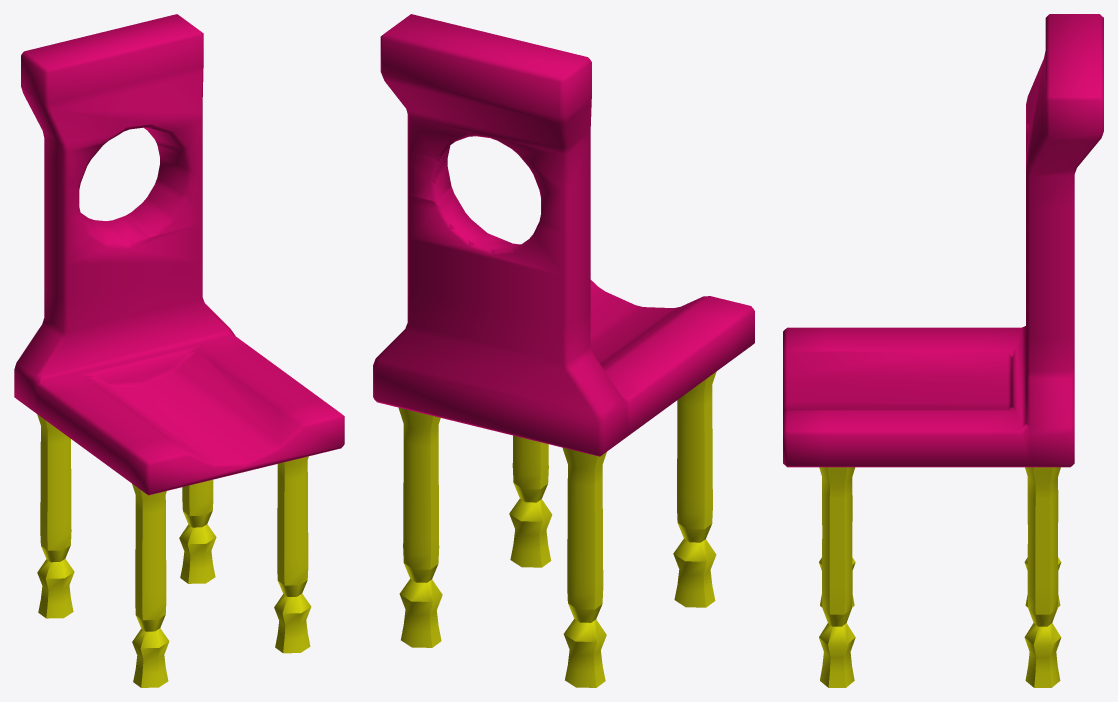
File: chairA.fbx
3 views of the same model, side by side, from view 1: azimuth 30°, elevation 25°; view 2: azimuth 150°, elevation 25°; view 3: azimuth 270°, elevation 25° (orthographic). The views are drawn at different scales.
Visible parts, largest first — view 1: autouv1; view 2: autouv1; view 3: autouv1.
Part boxes in pixels (box(x1,y1,x2,y2)): autouv1: box(14, 14, 344, 687); autouv1: box(373, 14, 754, 687); autouv1: box(783, 14, 1103, 687).
Bounding box in the file's own units: 58.68 × 153 × 75.31.
